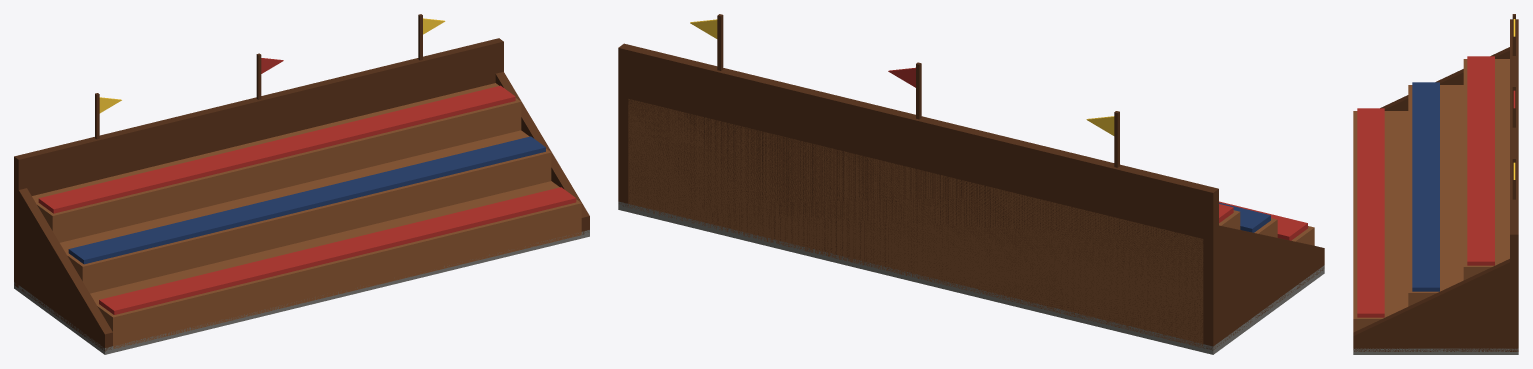
Rendered from stands-3x1.glb.
The picture shows the model from 3 angles, left to right: view 1: azimuth 30°, elevation 25°; view 2: azimuth 150°, elevation 25°; view 3: azimuth 270°, elevation 25°; orthographic projection. The views are drawn at different scales.
Visible parts, largest first — view 1: Stands3x1; view 2: Stands3x1; view 3: Stands3x1.
Part boxes in pixels (box(x1,y1,x2,y2)): Stands3x1: box(14, 14, 589, 354); Stands3x1: box(618, 14, 1324, 354); Stands3x1: box(1353, 14, 1518, 354).
Size of the model in its own units: 2.96 by 1.03 by 0.96.
Materials: 1 (1 with a texture image).
